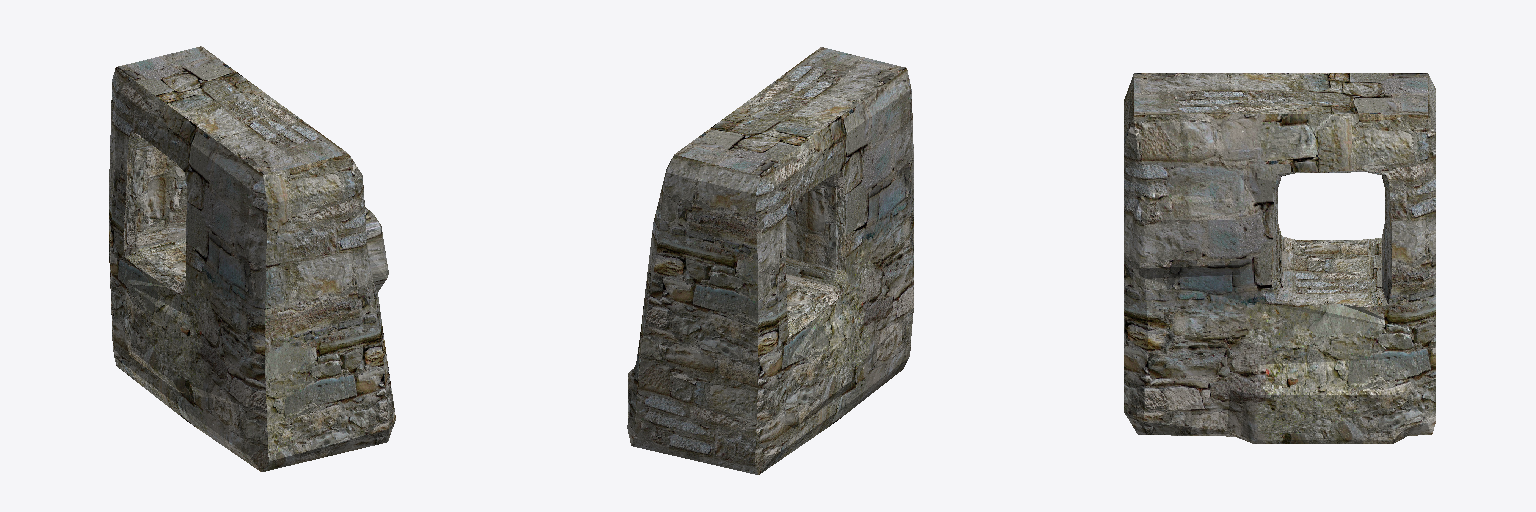
3 views of the same model, side by side, from view 1: azimuth 30°, elevation 25°; view 2: azimuth 150°, elevation 25°; view 3: azimuth 270°, elevation 25° (orthographic).
Parts seen in each view (by area): view 1: ChamferBox01; view 2: ChamferBox01; view 3: ChamferBox01.
Boxes of the visible parts, x1=… form: ChamferBox01: x1=109, y1=46, x2=395, y2=471; ChamferBox01: x1=627, y1=47, x2=913, y2=474; ChamferBox01: x1=1124, y1=73, x2=1435, y2=443.
Size of the model in its own units: 1.63 by 2.81 by 2.62.
Materials: 1 (1 with a texture image).